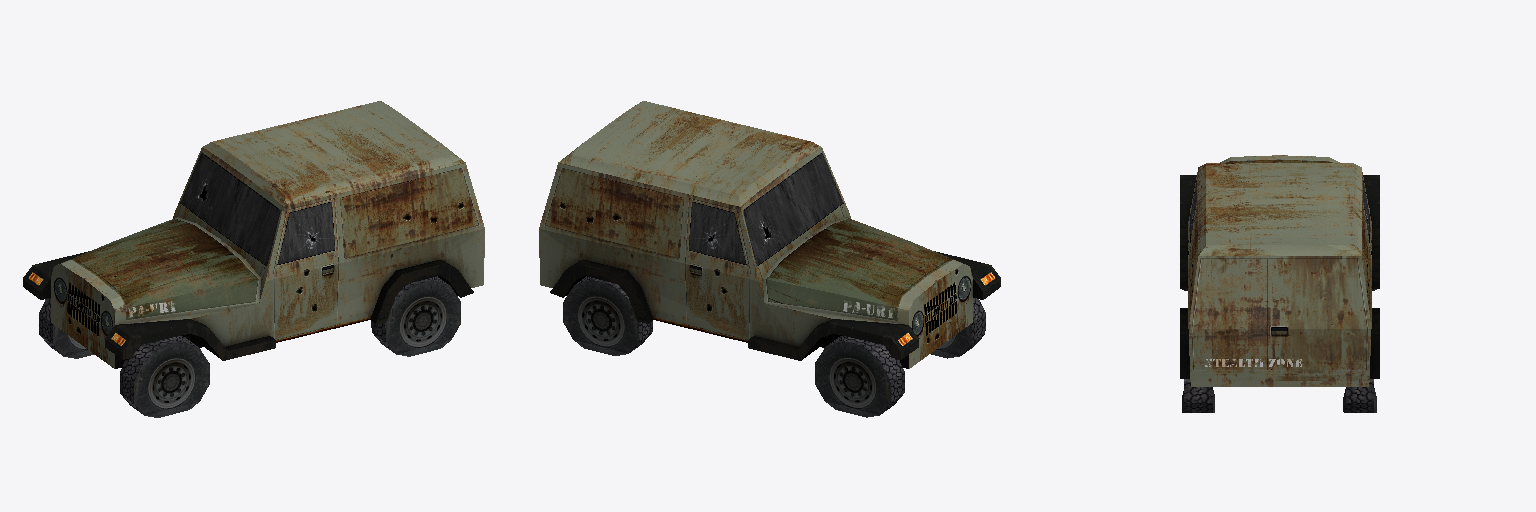
3 renders of one model, left to right at view 1: azimuth 30°, elevation 25°; view 2: azimuth 150°, elevation 25°; view 3: azimuth 270°, elevation 25°, orthographic.
Parts seen in each view (by area): view 1: Cube_Cube.001; view 2: Cube_Cube.001; view 3: Cube_Cube.001.
Boxes of the visible parts, x1=… form: Cube_Cube.001: x1=23, y1=101, x2=484, y2=417; Cube_Cube.001: x1=539, y1=101, x2=1000, y2=417; Cube_Cube.001: x1=1180, y1=155, x2=1379, y2=412.
Bounding box in the file's own units: 8.62 × 4.06 × 4.08.
1 materials, 1 textured.